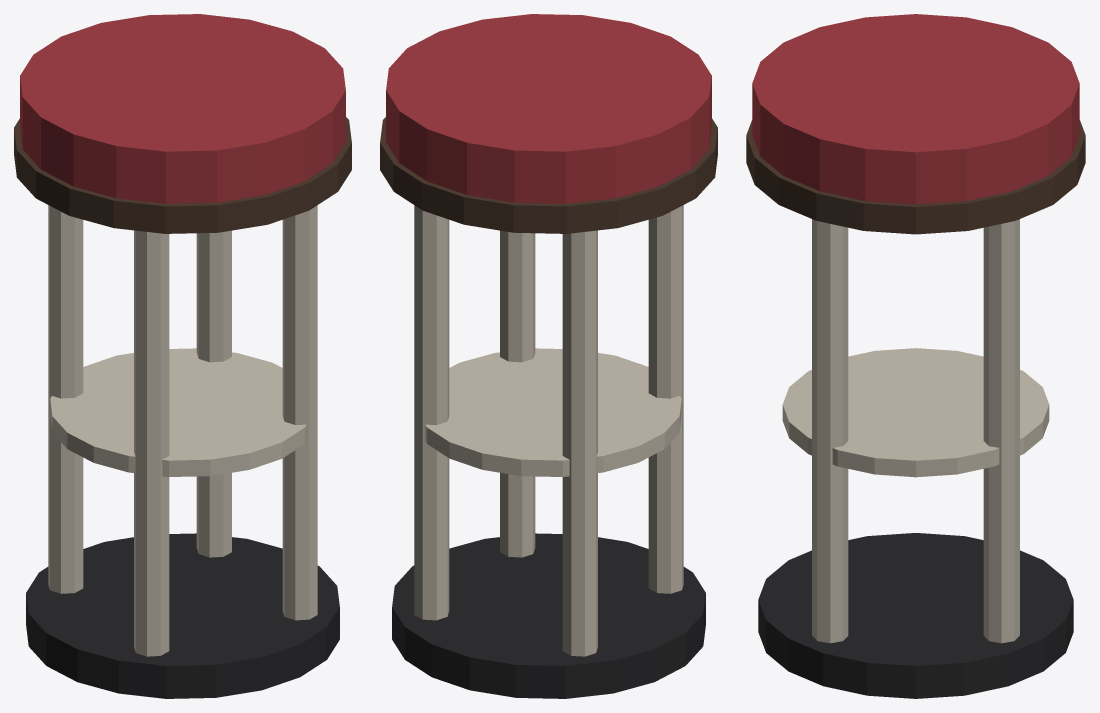
File: BarStool.fbx
3 views of the same model, side by side, from view 1: azimuth 30°, elevation 25°; view 2: azimuth 150°, elevation 25°; view 3: azimuth 270°, elevation 25° (orthographic).
Parts seen in each view (by area): view 1: BarStool; view 2: BarStool; view 3: BarStool.
Part boxes in pixels (box(x1,y1,x2,y2)): BarStool: box(14, 14, 351, 698); BarStool: box(380, 14, 717, 698); BarStool: box(746, 14, 1085, 698).
Size of the model in its own units: 0.56 by 1 by 0.56.
